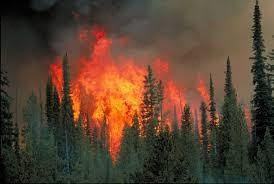fire: (46, 25, 233, 148)
